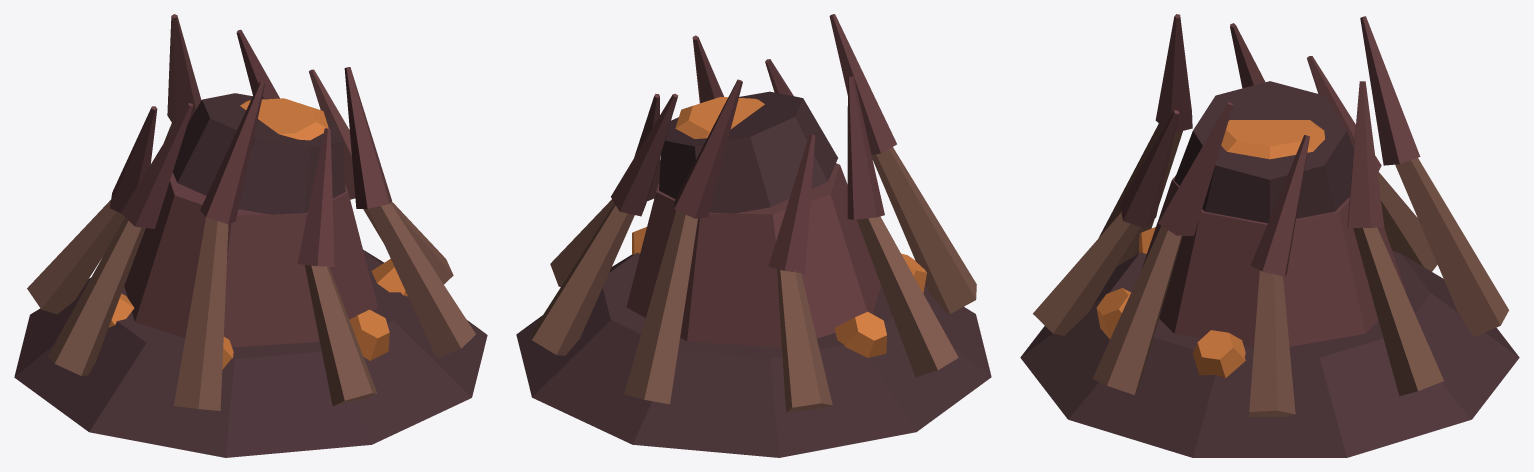
File: alien_nest.glb
3 views of the same model, side by side, from view 1: azimuth 30°, elevation 25°; view 2: azimuth 150°, elevation 25°; view 3: azimuth 270°, elevation 25° (orthographic). The views are drawn at different scales.
Visible parts, largest first — view 1: alien_nest; view 2: alien_nest; view 3: alien_nest.
Boxes of the visible parts, left/top/right/bottom form: alien_nest: left=14, top=14, right=487, bottom=457; alien_nest: left=516, top=14, right=991, bottom=457; alien_nest: left=1020, top=14, right=1519, bottom=457.
Size of the model in its own units: 2.04 by 1.54 by 2.14.
